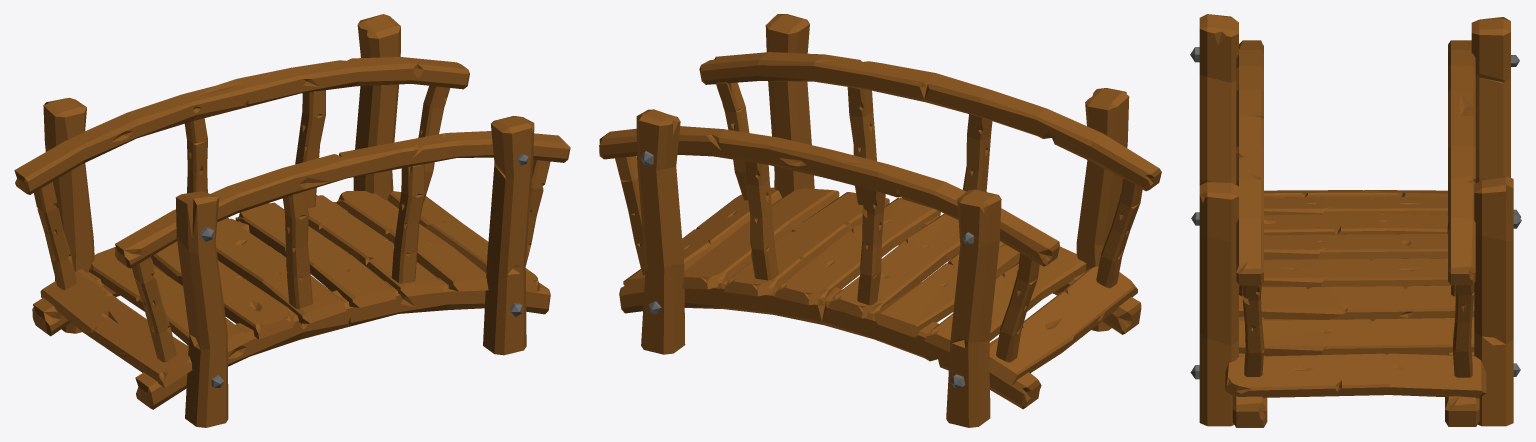
File: S_Bridge.fbx
The picture shows the model from 3 angles, left to right: view 1: azimuth 30°, elevation 25°; view 2: azimuth 150°, elevation 25°; view 3: azimuth 270°, elevation 25°; orthographic projection. The views are drawn at different scales.
Parts seen in each view (by area): view 1: S_Bridge; view 2: S_Bridge; view 3: S_Bridge.
Boxes of the visible parts, x1=… form: S_Bridge: x1=14, y1=14, x2=570, y2=427; S_Bridge: x1=599, y1=14, x2=1161, y2=427; S_Bridge: x1=1190, y1=14, x2=1521, y2=427.
Bounding box in the file's own units: 416 × 204 × 254.
